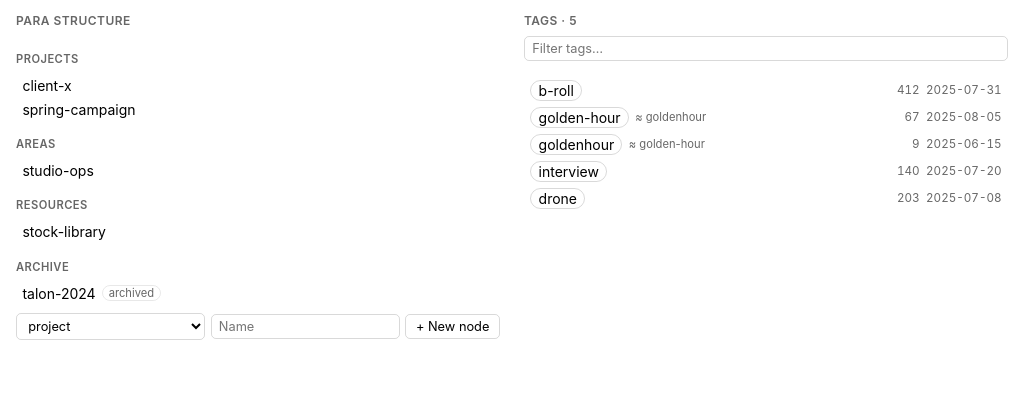
merging sends the chosen target as the merge's `into` tag
Click the button "goldenhour ≈ golden-hour 9 2025-06-15": [576, 144] box [524,131,1008,158]
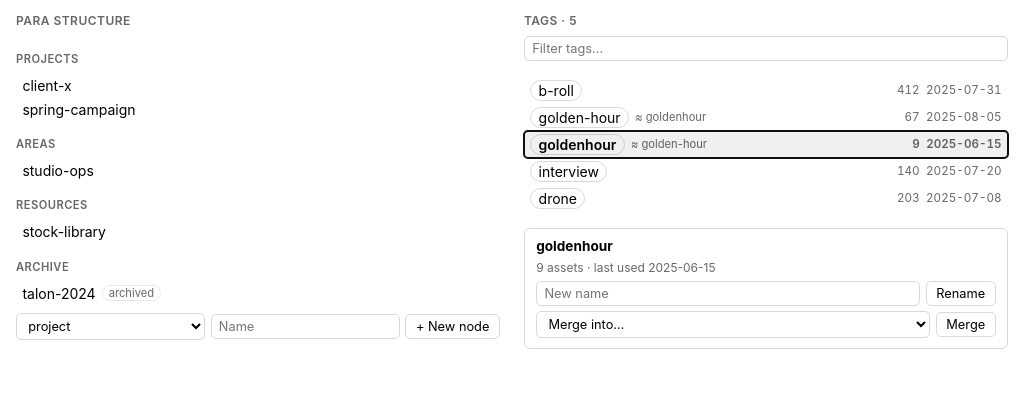
Select "golden-hour" in the dropdown named "Merge into": [733, 325] box [536,311,930,338]
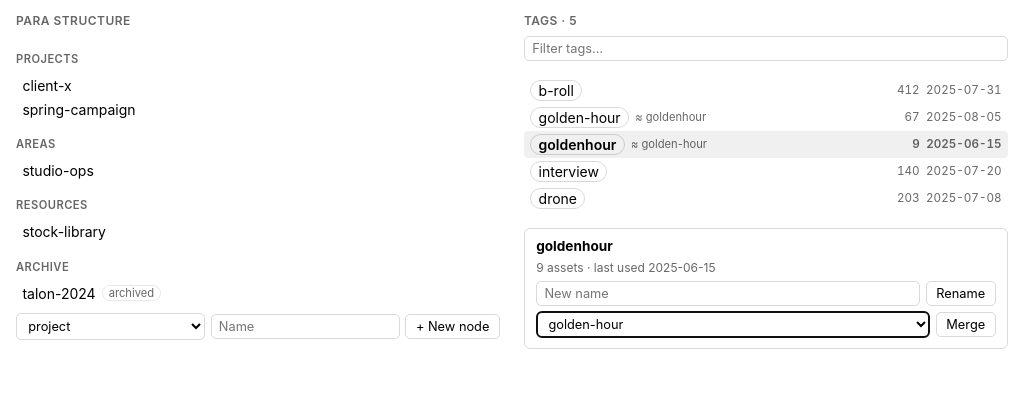
Click the button "Merge": [966, 325] box [936,312,996,337]
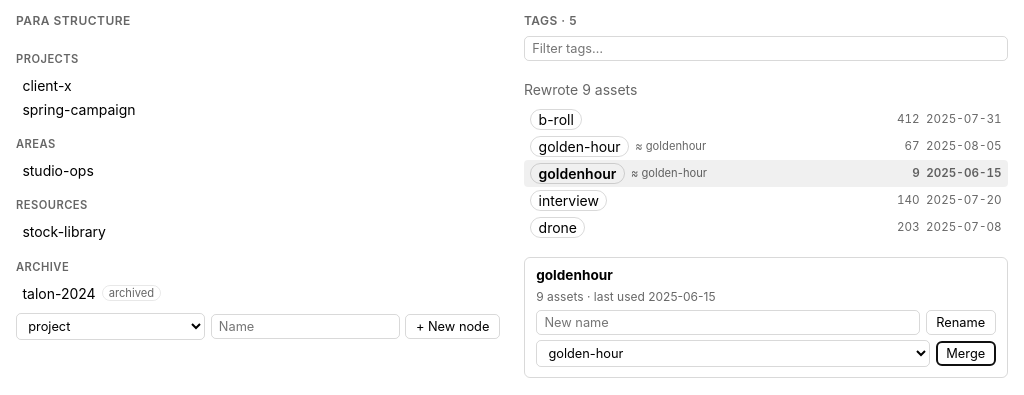
Check: the text "Rewrote 9 assets" is shown, box [524,81,637,98]
